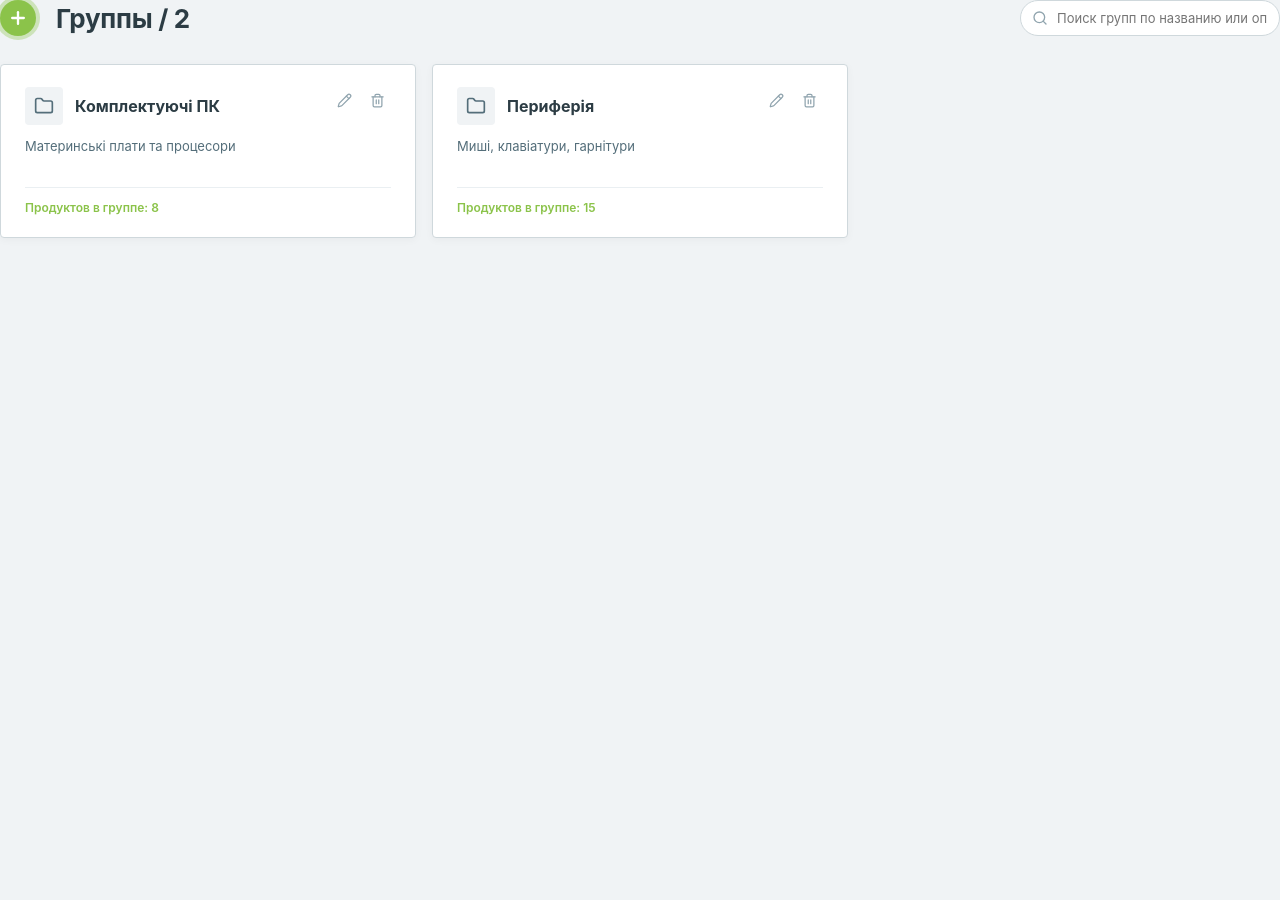
Test: Frontend Groups Page Integration Tests (CRUD & Real-time) › opens DeleteConfirmModal on delete button click
Expected: the heading "Комплектуючі ПК" is shown, 75,96 -> 220,116
Click the button titled "Удалить группу" next to "Комплектуючі ПК": (378, 100) 364,87 -> 391,114
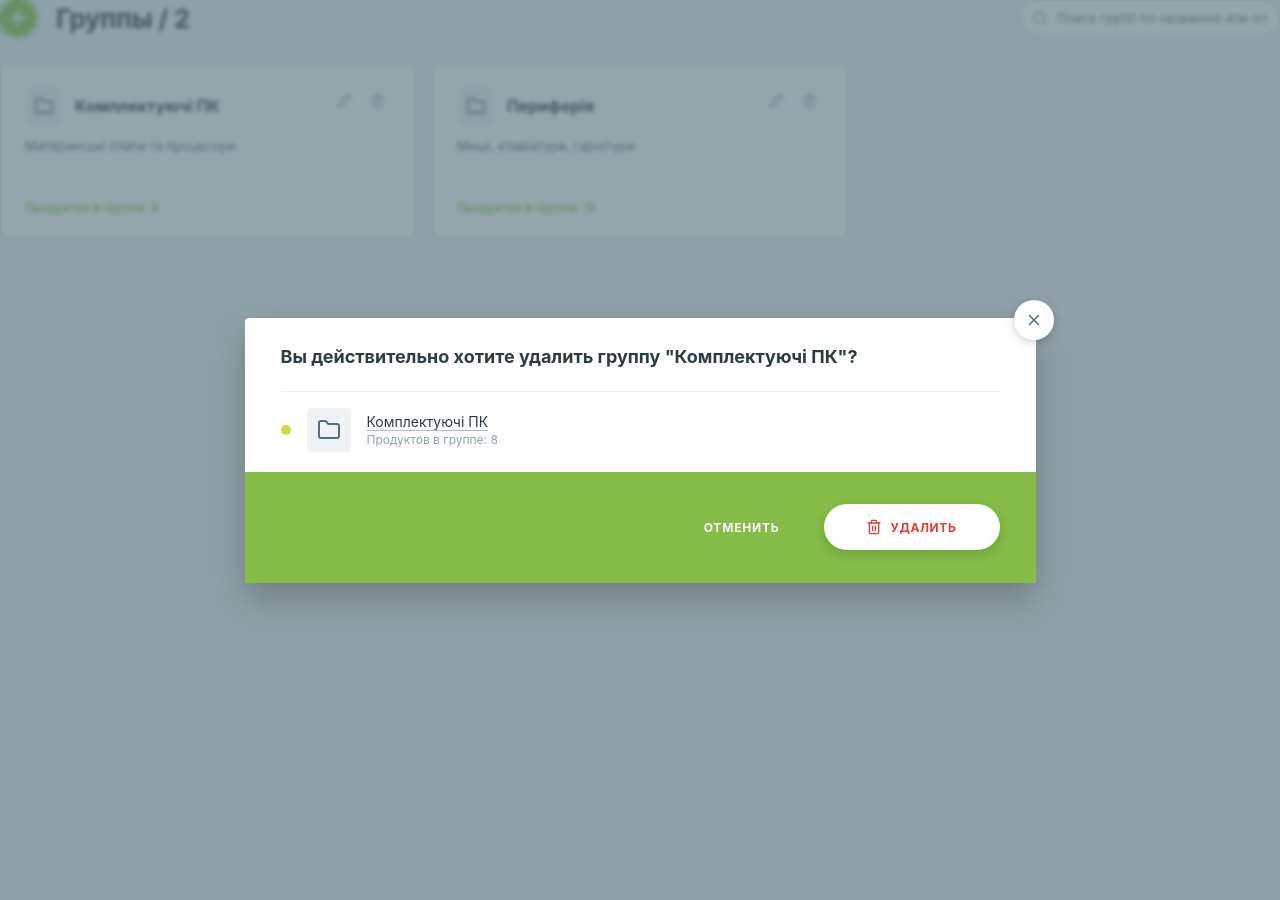
Now the heading "Вы действительно хотите удалить группу \"Комплектуючі ПК\"?" is shown, box 280,346 -> 858,366
